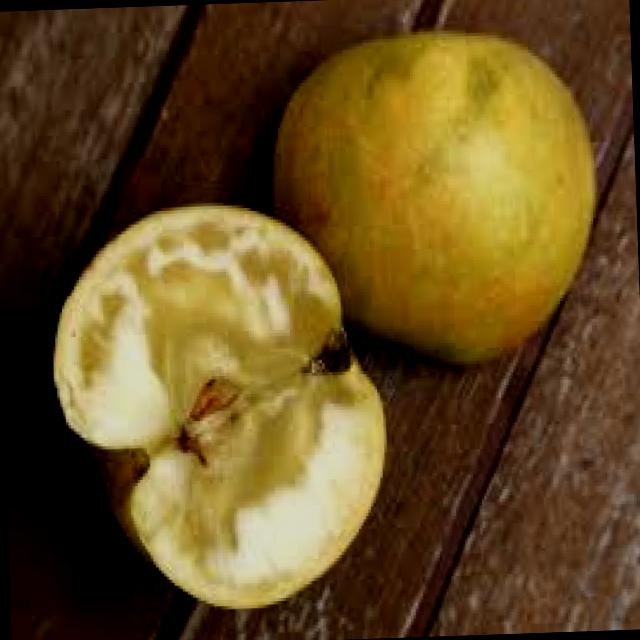organic: (41, 198, 398, 616), (282, 24, 602, 371)
